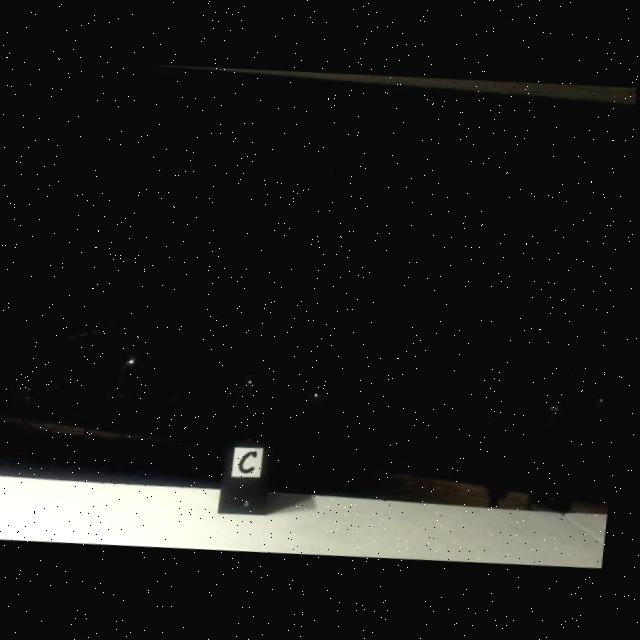C: (240, 452, 261, 476)
